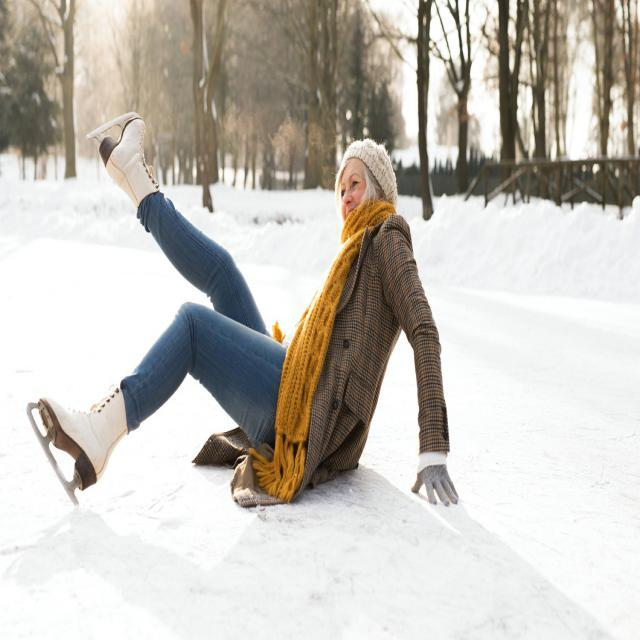fall: (26, 80, 460, 510)
